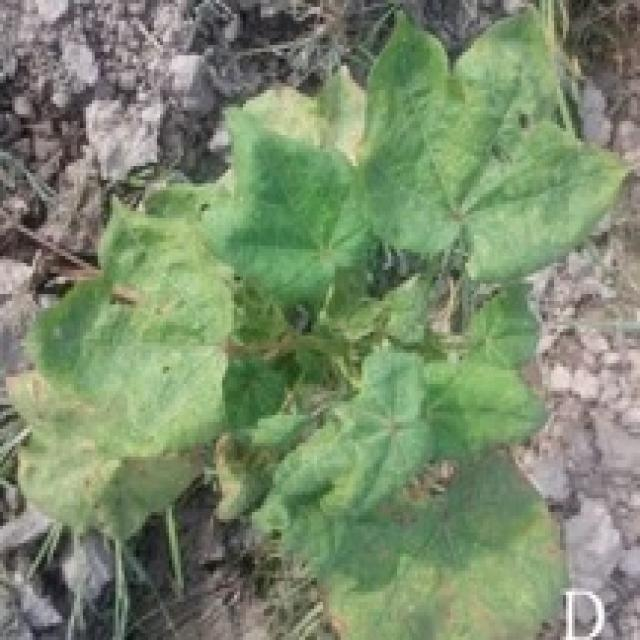Leaf Curl Virus: (120, 104, 503, 511)
